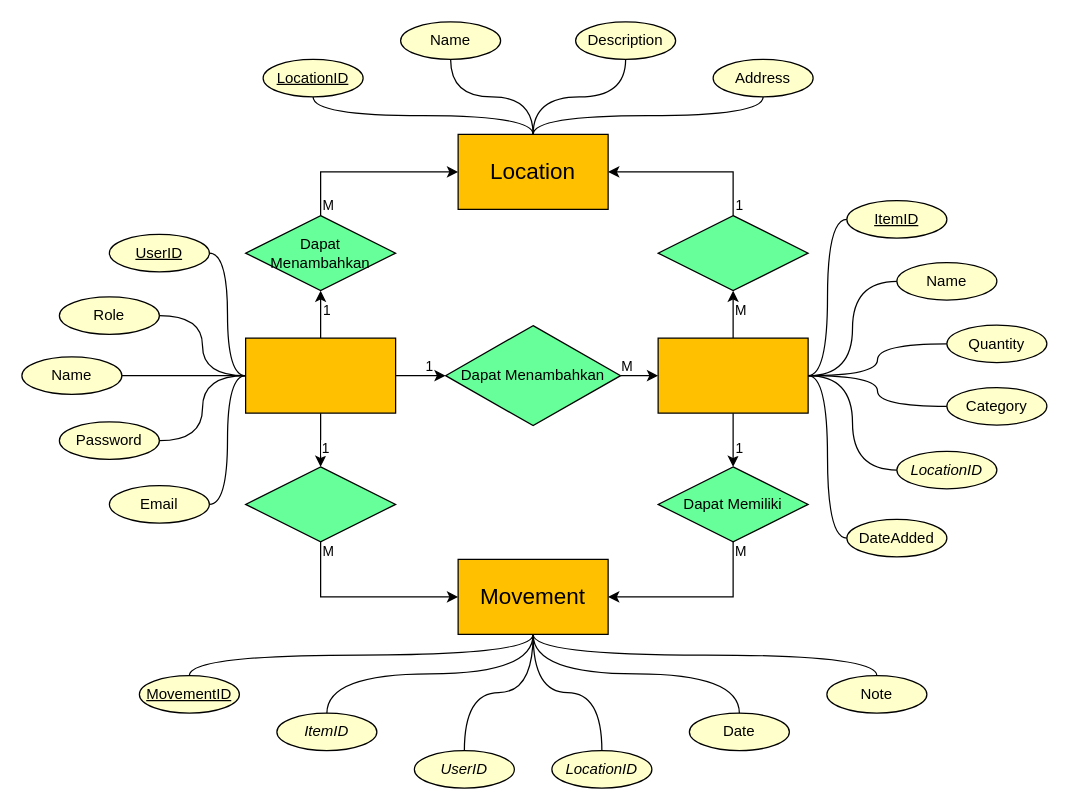
The diagram is 1069 pixels wide and 810 high, and some of its shapes have lost their labels. The centre of each missing label's shape, as x and y in pixels:
"Dapat Menyebabkan" goes at pixel 320 504.
"Ditempatkan di" goes at pixel 732 252.
"Items" goes at pixel 732 375.
"Users" goes at pixel 320 375.
